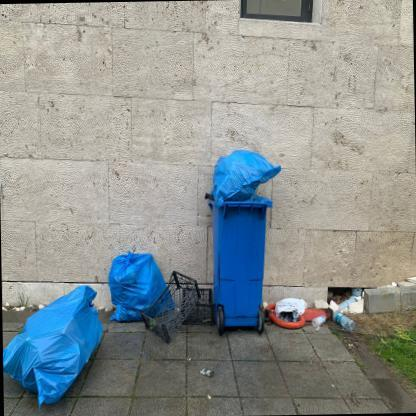Garbage: (3, 266, 113, 415), (104, 254, 176, 324), (208, 144, 282, 198), (275, 296, 309, 322), (333, 310, 362, 334), (312, 314, 330, 332)
